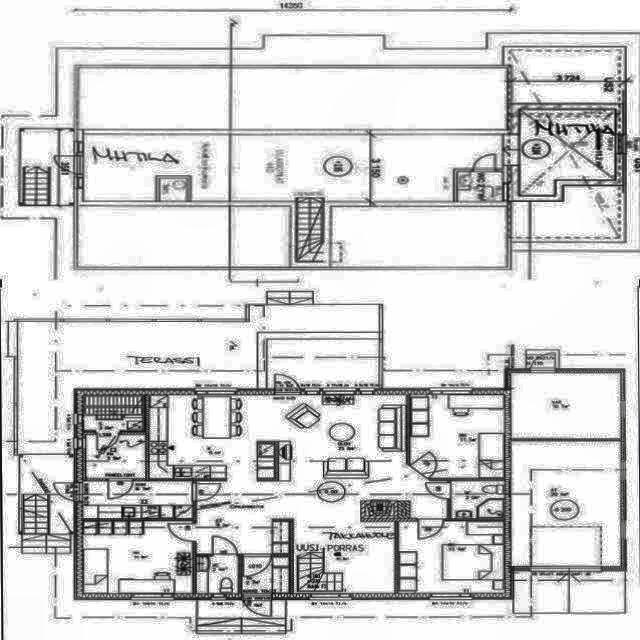room: (83, 522, 193, 593), (411, 395, 504, 478), (399, 521, 504, 593), (83, 481, 193, 518), (86, 434, 145, 478), (83, 396, 144, 431), (452, 480, 504, 518), (243, 557, 289, 593), (197, 557, 238, 593), (457, 172, 503, 201)
